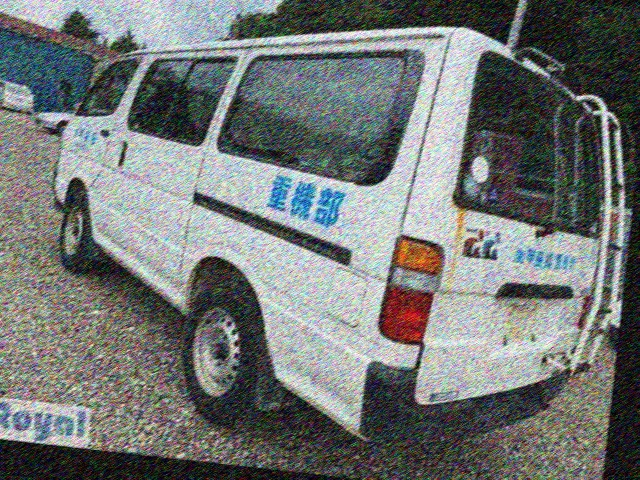van: (32, 0, 636, 461)
